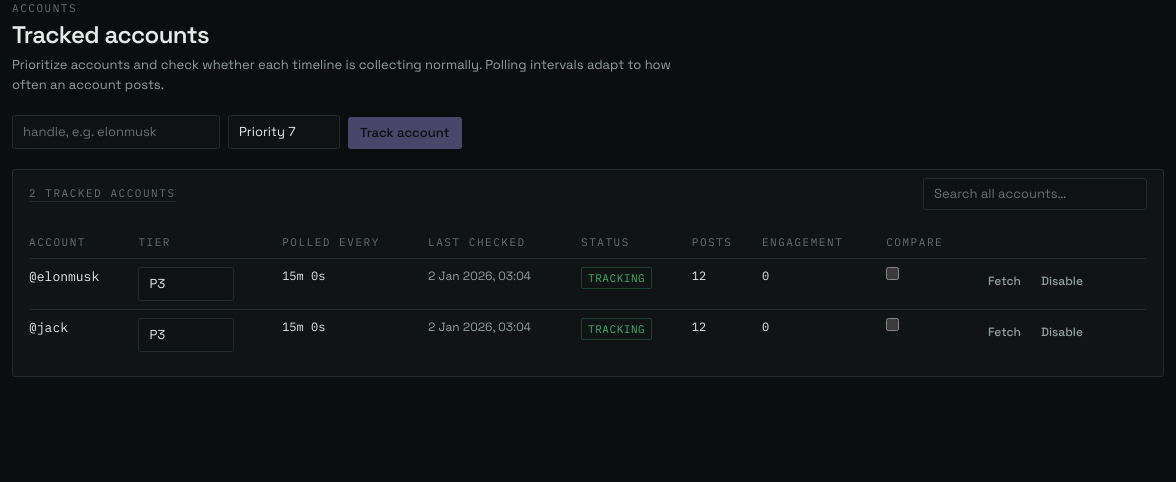
Test: account timeline › switches to another account while the first timeline is still loading
Click the button "@elonmusk". click: (64,277)
box: [29,267,99,287]
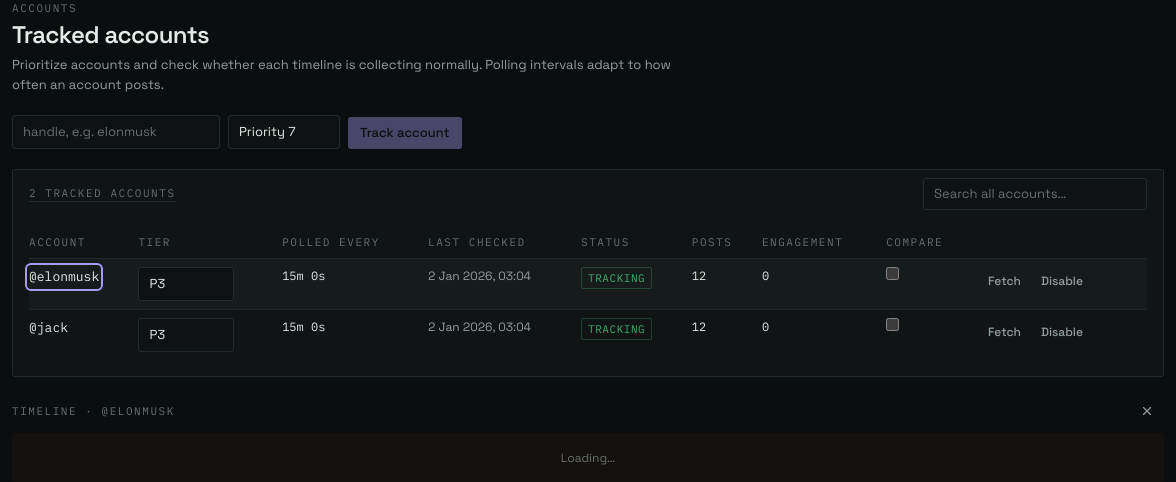
Click the button "@jack". click: (48,328)
box: [29,318,68,338]
(page scrolled)
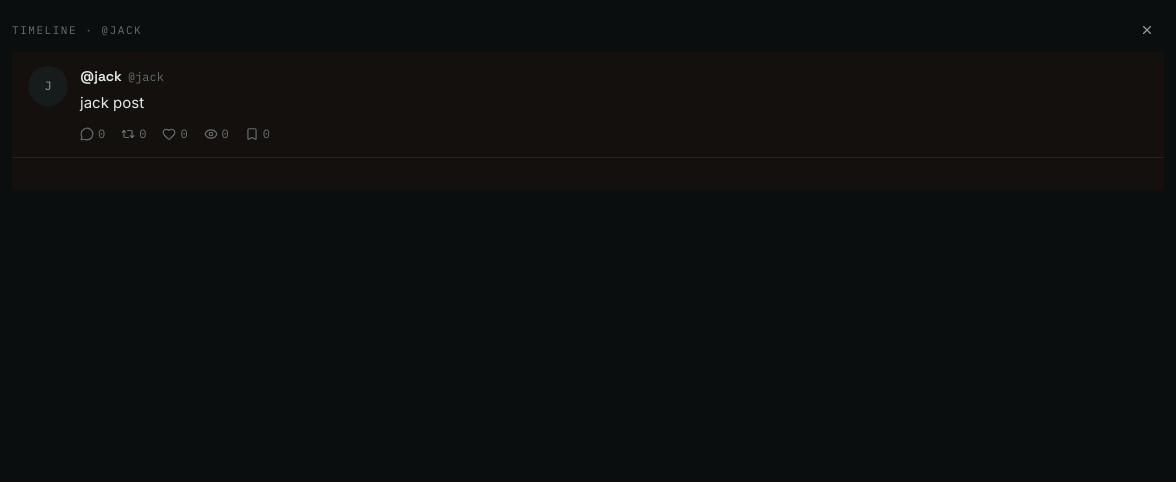
Now the text "jack post" is shown, box [80,93,144,112]
